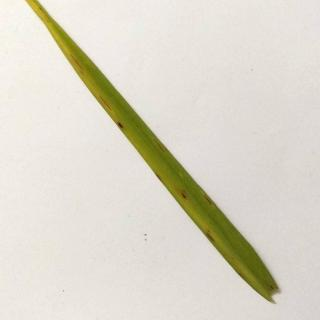bercak-Cokelat: (202, 227, 220, 248), (114, 118, 128, 134), (177, 190, 190, 202)
